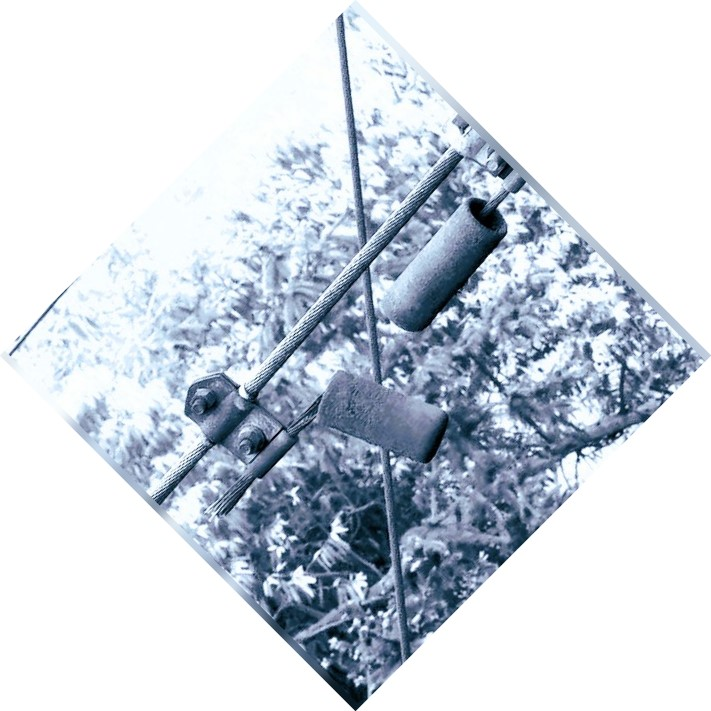Damage of shockproof hammer: (157, 356, 458, 521)
